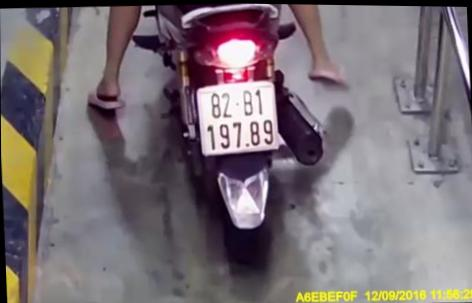LP: (192, 77, 283, 158)
